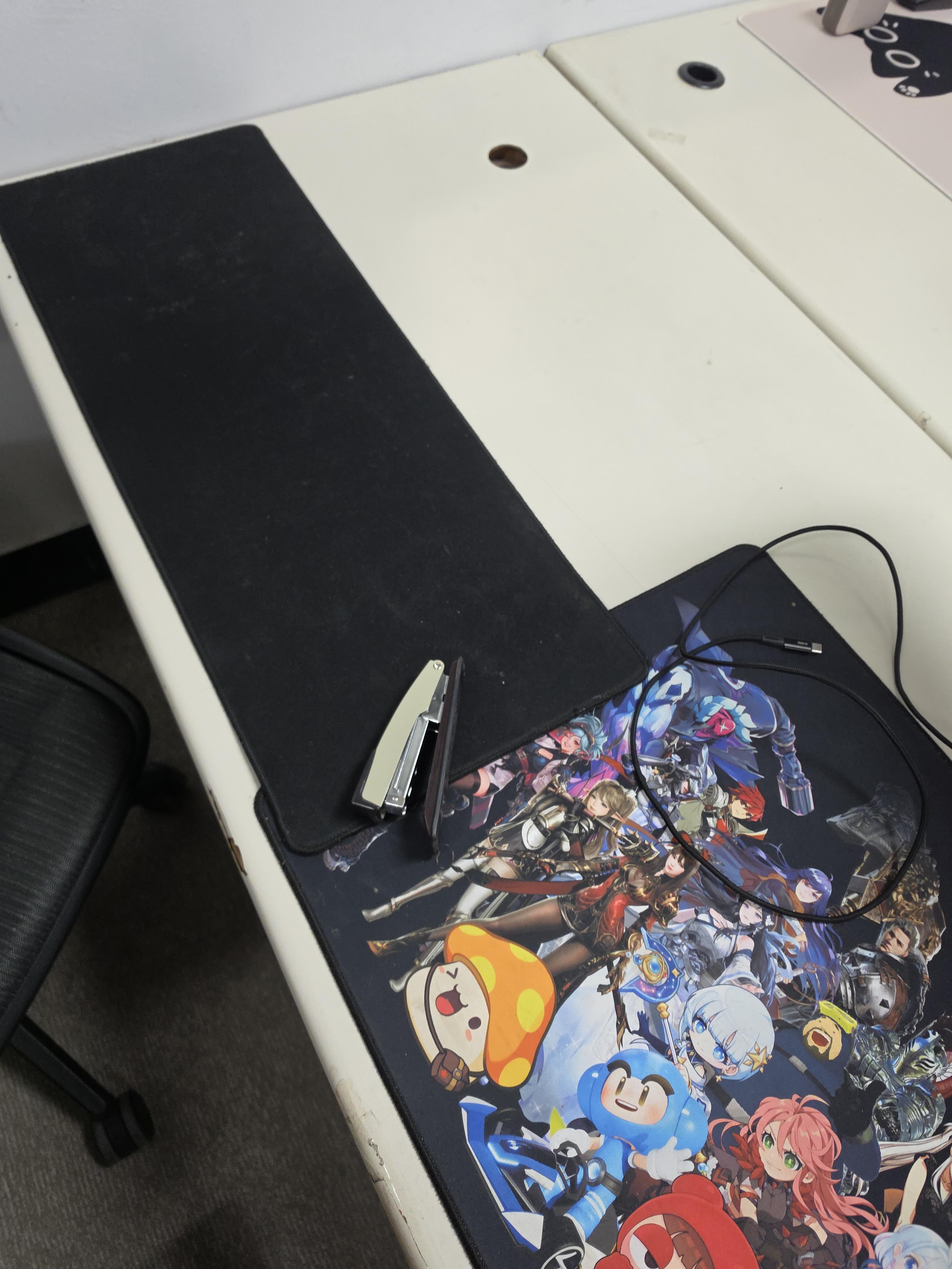stapler: (351, 656, 465, 858)
